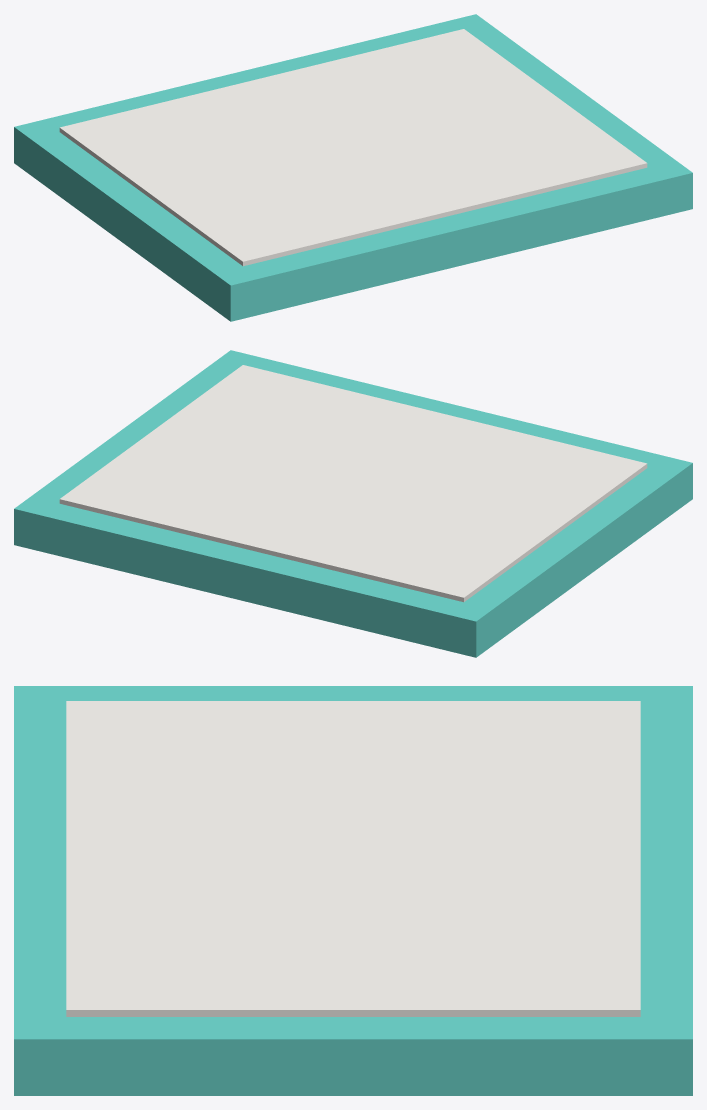
Rendered from pickup_tray.glb.
The picture shows the model from 3 angles, top to bottom: view 1: azimuth 30°, elevation 25°; view 2: azimuth 150°, elevation 25°; view 3: azimuth 270°, elevation 25°; orthographic projection. The views are drawn at different scales.
Parts seen in each view (by area): view 1: Surface, Frame; view 2: Surface, Frame; view 3: Surface, Frame.
Boxes of the visible parts, x1=… form: Surface: x1=59, y1=29, x2=647, y2=266; Frame: x1=14, y1=14, x2=692, y2=321; Surface: x1=59, y1=365, x2=647, y2=602; Frame: x1=14, y1=350, x2=692, y2=657; Surface: x1=66, y1=701, x2=640, y2=1016; Frame: x1=14, y1=686, x2=692, y2=1095.
Size of the model in its own units: 0.32 by 0.027 by 0.26.
